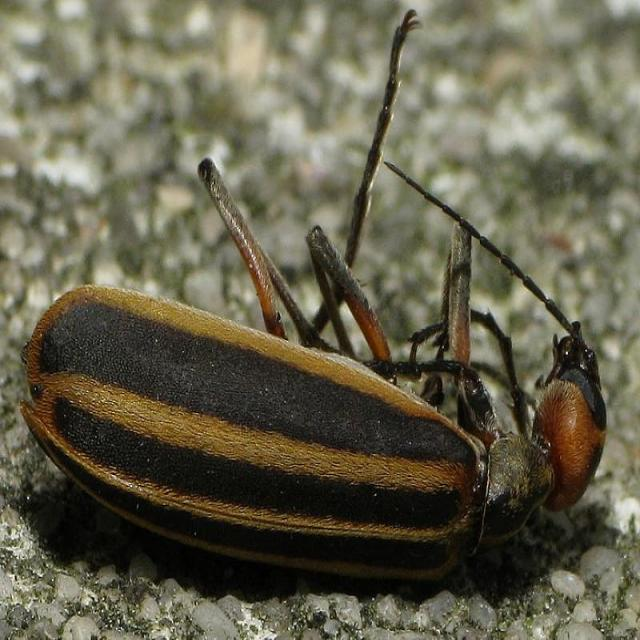BlisterBeetle-Adult-: (18, 8, 614, 596)
